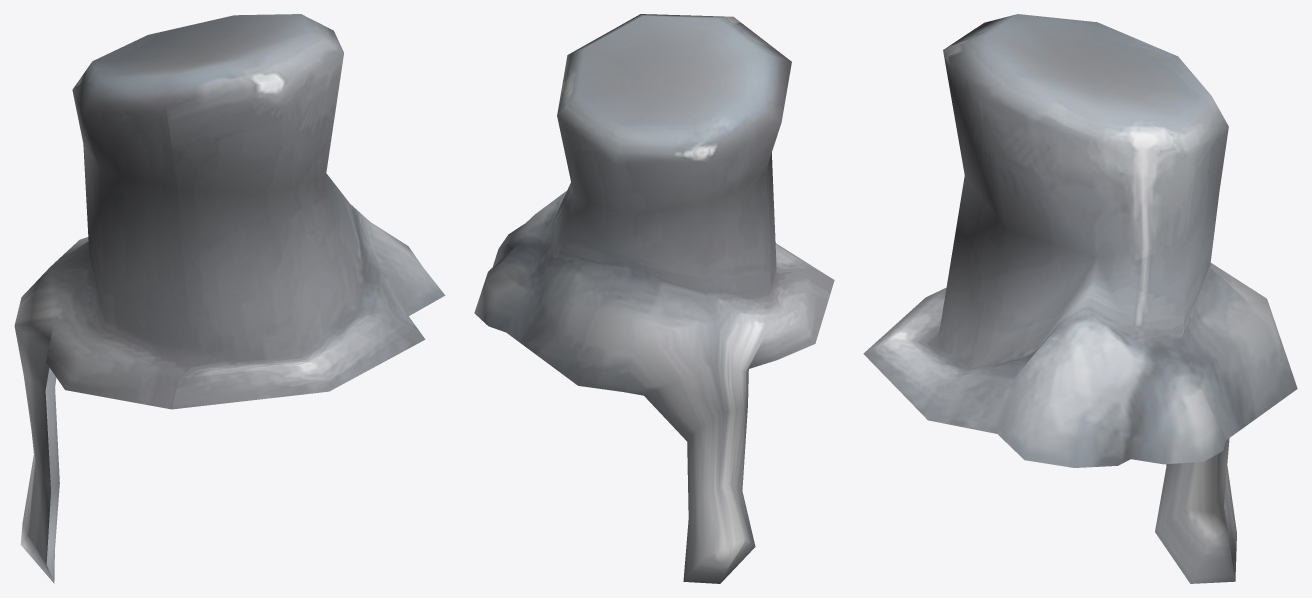
Rendered from A_CR_GEN_Candle_02.fbx.
3 views of the same model, side by side, from view 1: azimuth 30°, elevation 25°; view 2: azimuth 150°, elevation 25°; view 3: azimuth 270°, elevation 25° (orthographic). The views are drawn at different scales.
Parts seen in each view (by area): view 1: A_CR_GEN_Candle_02; view 2: A_CR_GEN_Candle_02; view 3: A_CR_GEN_Candle_02.
Boxes of the visible parts, left/top/right/bottom form: A_CR_GEN_Candle_02: left=14, top=14, right=445, bottom=583; A_CR_GEN_Candle_02: left=474, top=14, right=834, bottom=583; A_CR_GEN_Candle_02: left=863, top=14, right=1297, bottom=583.
Bounding box in the file's own units: 46.28 × 68.31 × 44.85.
1 material, 1 textured.
